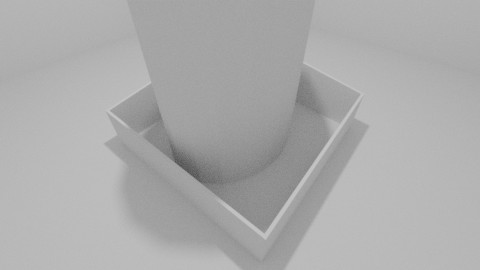cheminee: (127, 1, 315, 184)
eaf: (109, 111, 265, 258)
